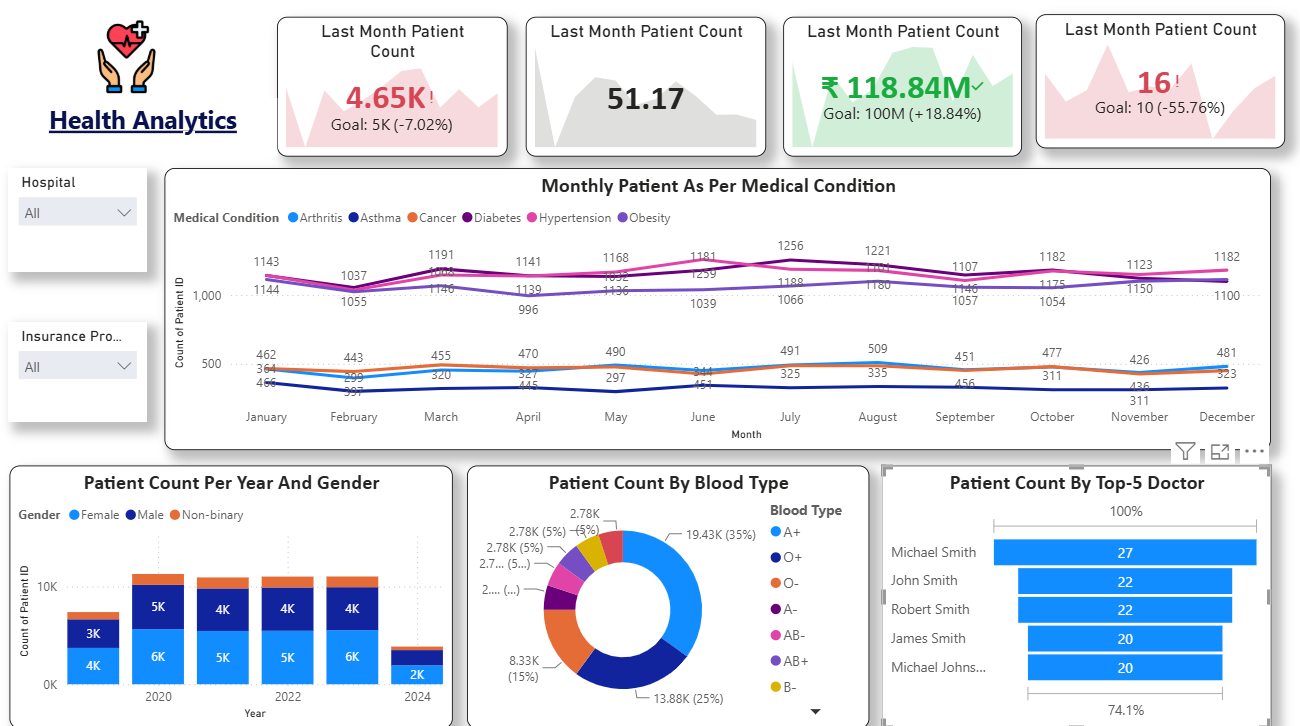

Layout of this report page (visuals, bound fields, positions):
{"tool":"powerbi","page":{"name":"Page 1","canvas":[1280,720],"ordinal":0},"visuals":[{"type":"kpi","title":"Last Month Patient Count ","fields":{"Indicator":["Count(Data.Patient ID)"],"TrendLine":["Data.Date of Admission.Variation.Date Hierarchy.Month"],"Goal":["Data.Monthl PC Target"]},"box":[279.4,22.8,225.2,136.8],"z":0},{"type":"kpi","title":"Last Month Patient Count ","fields":{"Indicator":["Avg(Data.Age)"],"TrendLine":["Data.Date of Admission.Variation.Date Hierarchy.Month"]},"box":[521.7,22.8,235.2,136.8],"z":1000},{"type":"kpi","title":"Last Month Patient Count ","fields":{"TrendLine":["Data.Date of Admission.Variation.Date Hierarchy.Month"],"Goal":["Data.Billing Target"],"Indicator":["Sum(Data.Billing Amount)"]},"box":[774,22.8,233.8,136.8],"z":2000},{"type":"kpi","title":"Last Month Patient Count ","fields":{"TrendLine":["Data.Date of Admission.Variation.Date Hierarchy.Month"],"Indicator":["Avg(Data.Stay Duration)"],"Goal":["Avg(Data.Duratin Target)"]},"box":[1020.6,21.4,243.7,131.1],"z":3000},{"type":"lineChart","title":"Monthly Patient As Per Medical Condition","fields":{"Category":["Data.Date of Admission.Variation.Date Hierarchy.Month"],"Y":["CountNonNull(Data.Patient ID)"],"Series":["Data.Medical Condition"]},"box":[17.1,171,1234.4,276.5],"z":4000},{"type":"columnChart","title":"Patient Count Per Year And Gender","fields":{"Y":["Count(Data.Patient ID)"],"Category":["Data.Date of Admission.Variation.Date Hierarchy.Year"],"Series":["Data.Gender"]},"box":[17.1,461.8,433.3,258],"z":5000},{"type":"donutChart","title":"Patient Count With Blood Type","fields":{"Y":["Count(Data.Patient ID)"],"Category":["Data.Blood Type"]},"box":[464.7,461.8,393.4,258],"z":6000},{"type":"funnel","title":"Patient Count With Blood Type","fields":{"Y":["Count(Data.Patient ID)"],"Category":["Data.Doctor"]},"box":[870.9,461.8,380.6,258],"z":7000},{"type":"slicer","fields":{"Values":["Data.Hospital"]},"box":[17.1,22.8,249.4,68.4],"z":7001},{"type":"slicer","fields":{"Values":["Data.Insurance Provider"]},"box":[17.1,91.2,249.4,68.4],"z":7002}]}

Visuals, with their boxes in screenshot pixels (x1, y1, x2, y2), scaled from the page's 1280x720 canvas onto the 1300x726 screenshot:
"Last Month Patient Count " kpi: {"x1": 284, "y1": 23, "x2": 512, "y2": 161}
"Last Month Patient Count " kpi: {"x1": 530, "y1": 23, "x2": 769, "y2": 161}
"Last Month Patient Count " kpi: {"x1": 786, "y1": 23, "x2": 1024, "y2": 161}
"Last Month Patient Count " kpi: {"x1": 1037, "y1": 22, "x2": 1284, "y2": 154}
"Monthly Patient As Per Medical Condition" lineChart: {"x1": 17, "y1": 172, "x2": 1271, "y2": 451}
"Patient Count Per Year And Gender" columnChart: {"x1": 17, "y1": 466, "x2": 457, "y2": 725}
"Patient Count With Blood Type" donutChart: {"x1": 472, "y1": 466, "x2": 872, "y2": 725}
"Patient Count With Blood Type" funnel: {"x1": 885, "y1": 466, "x2": 1271, "y2": 725}
slicer - Data.Hospital: {"x1": 17, "y1": 23, "x2": 271, "y2": 92}
slicer - Data.Insurance Provider: {"x1": 17, "y1": 92, "x2": 271, "y2": 161}
